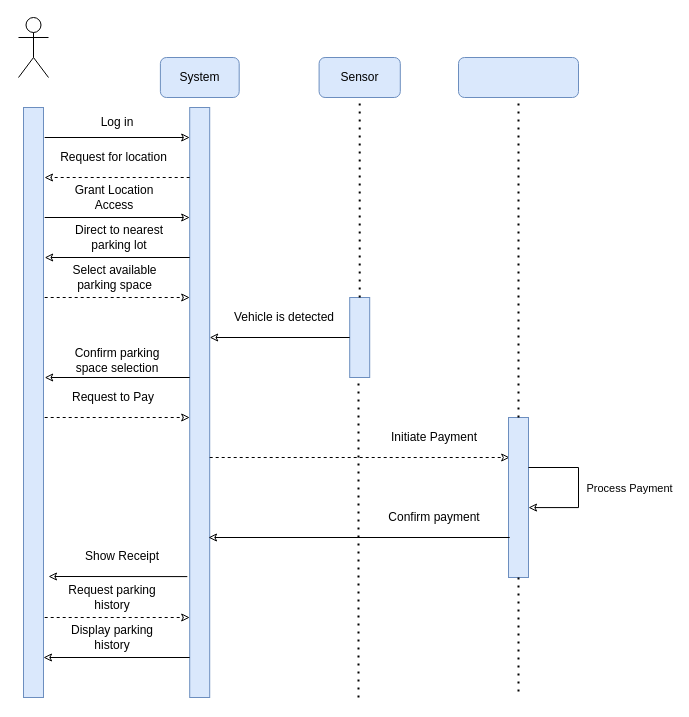
This 689x717 diagram has some shape labels left out. Here are the shapes that lost their labels. From the top down, the centre of each, then its label:
point 33,47: Driver
point 518,77: Payment Gateway
